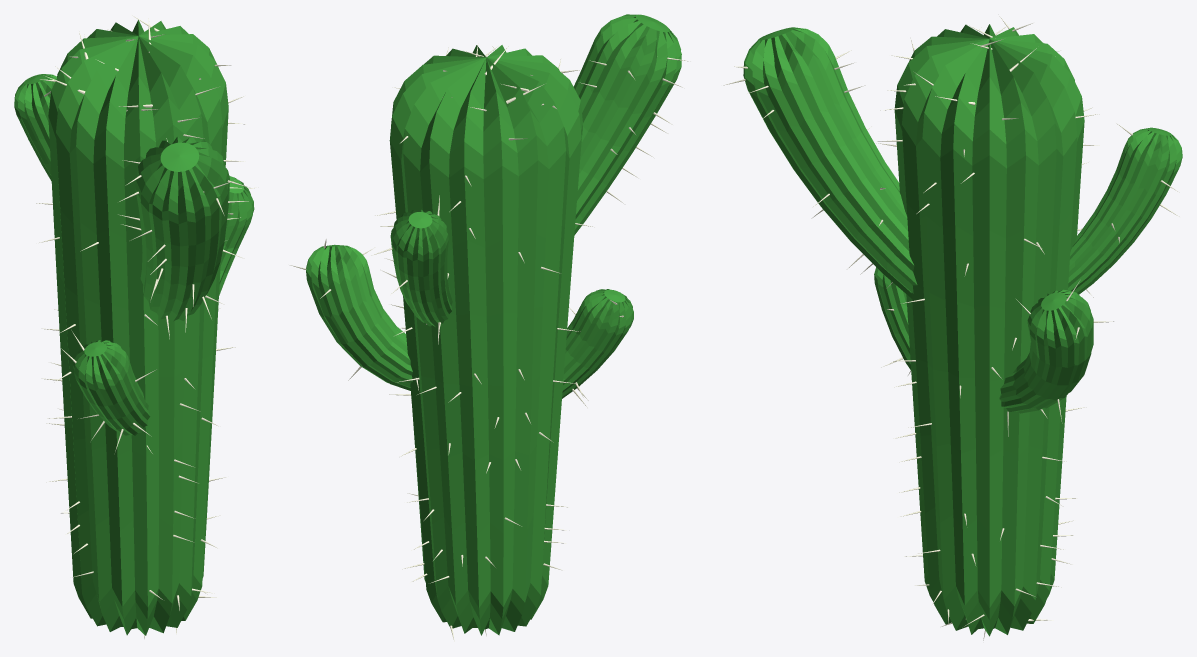
The model's file is QuadArmCactus.fbx.
3 renders of one model, left to right at view 1: azimuth 30°, elevation 25°; view 2: azimuth 150°, elevation 25°; view 3: azimuth 270°, elevation 25°, orthographic. The views are drawn at different scales.
Visible parts, largest first — view 1: Body; view 2: Body; view 3: Body.
Part boxes in pixels (x1,y1,x2,y2): Body: [14, 20, 254, 635]; Body: [306, 14, 681, 635]; Body: [743, 24, 1182, 636].
Size of the model in its own units: 269 by 569 by 389.
